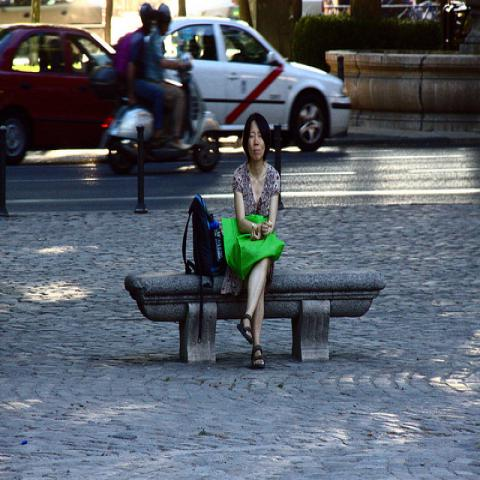car: (163, 15, 351, 149), (2, 22, 118, 160)
motorcycle: (102, 54, 221, 174)
